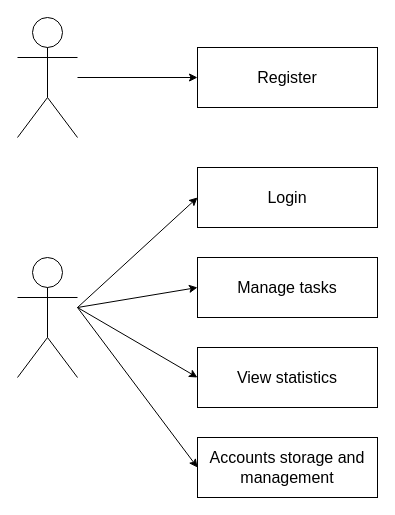
This 395x515 diagram has some shape labels left out. The box of each missing label's shape, as (x1, y1, x2, y2) in pixels:
Guest: (16, 16, 78, 138)
User: (16, 256, 78, 378)
